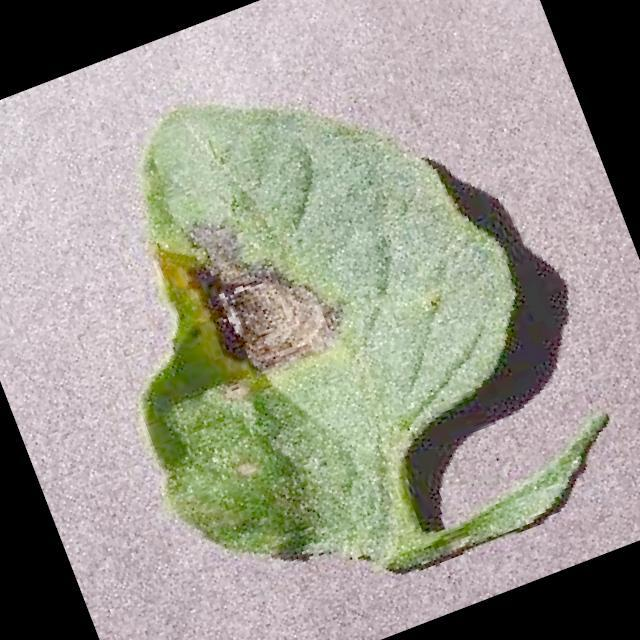Tomato Early blight leaf: (30, 1, 631, 640)
